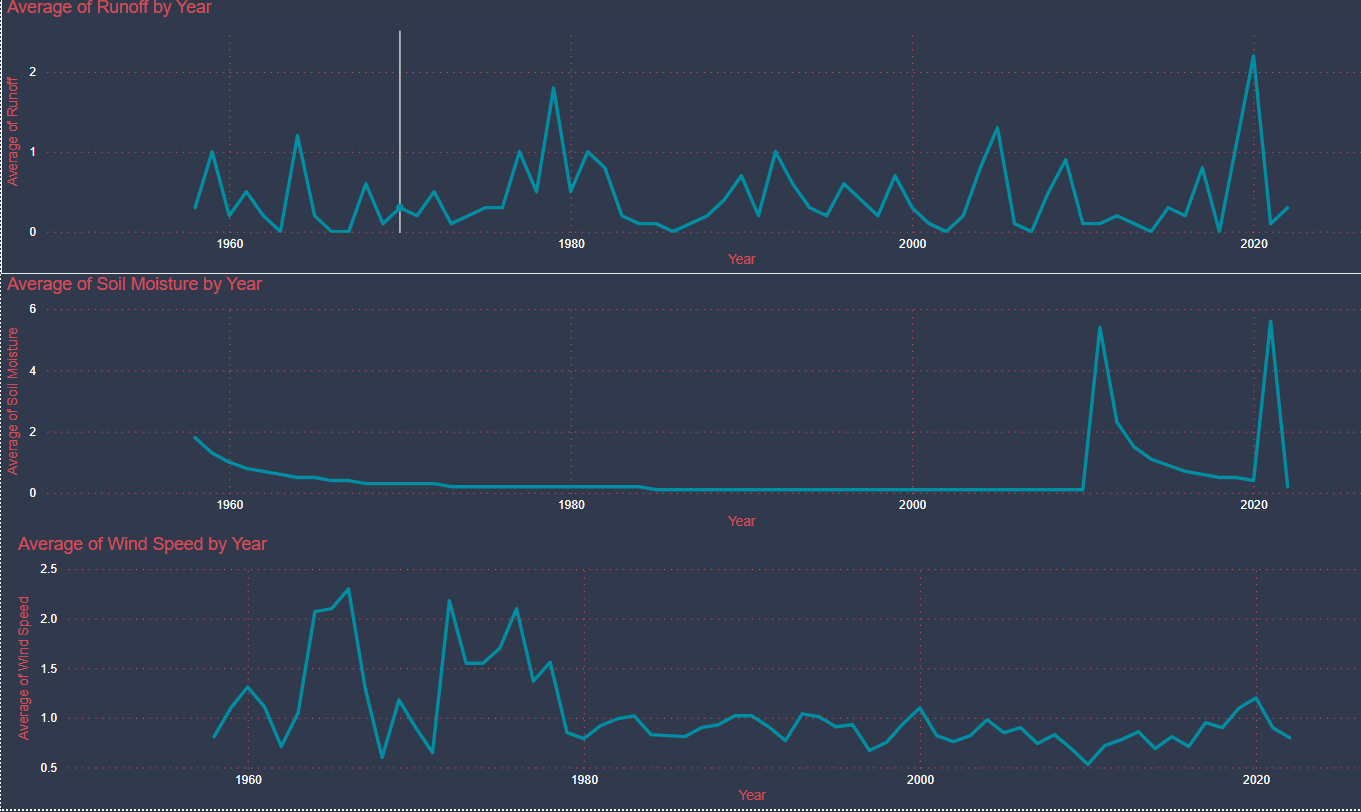

What the dashboard file says about the page in this screenshot:
{"tool":"powerbi","page":{"name":"Dera Ghazi Khan - 2","canvas":[1280,720],"ordinal":3},"visuals":[{"type":"lineChart","fields":{"Category":["Dera Ghazi Khan CSV.Year"],"Y":["Avg(Dera Ghazi Khan CSV.Runoff)"]},"box":[0,0,1279.7,245.3],"z":0},{"type":"lineChart","fields":{"Category":["Dera Ghazi Khan CSV.Year"],"Y":["Avg(Dera Ghazi Khan CSV.Soil Moisture)"]},"box":[0,245.3,1279.7,231.1],"z":1000},{"type":"lineChart","fields":{"Category":["Dera Ghazi Khan CSV.Year"],"Y":["Avg(Dera Ghazi Khan CSV.Wind Speed)"]},"box":[9.7,476.5,1270,243.5],"z":2000}]}

Visuals, with their boxes on the page's 1280x720 design canvas (x1, y1, x2, y2). These are canvas units, not pixel positions in the 1361x812 screenshot, which may show the page scaled, cropped or inside an application window:
lineChart - Dera Ghazi Khan CSV.Year x Avg(Dera Ghazi Khan CSV.Runoff): <bbox>0, 0, 1280, 245</bbox>
lineChart - Dera Ghazi Khan CSV.Year x Avg(Dera Ghazi Khan CSV.Soil Moisture): <bbox>0, 245, 1280, 476</bbox>
lineChart - Dera Ghazi Khan CSV.Year x Avg(Dera Ghazi Khan CSV.Wind Speed): <bbox>10, 476, 1280, 720</bbox>
